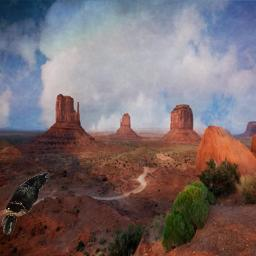Crow: (1, 171, 51, 235)
